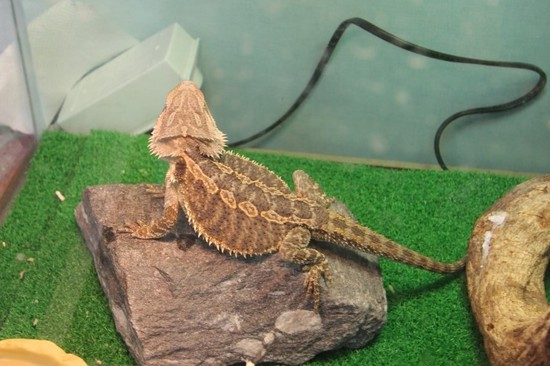bearded: (118, 78, 471, 313)
